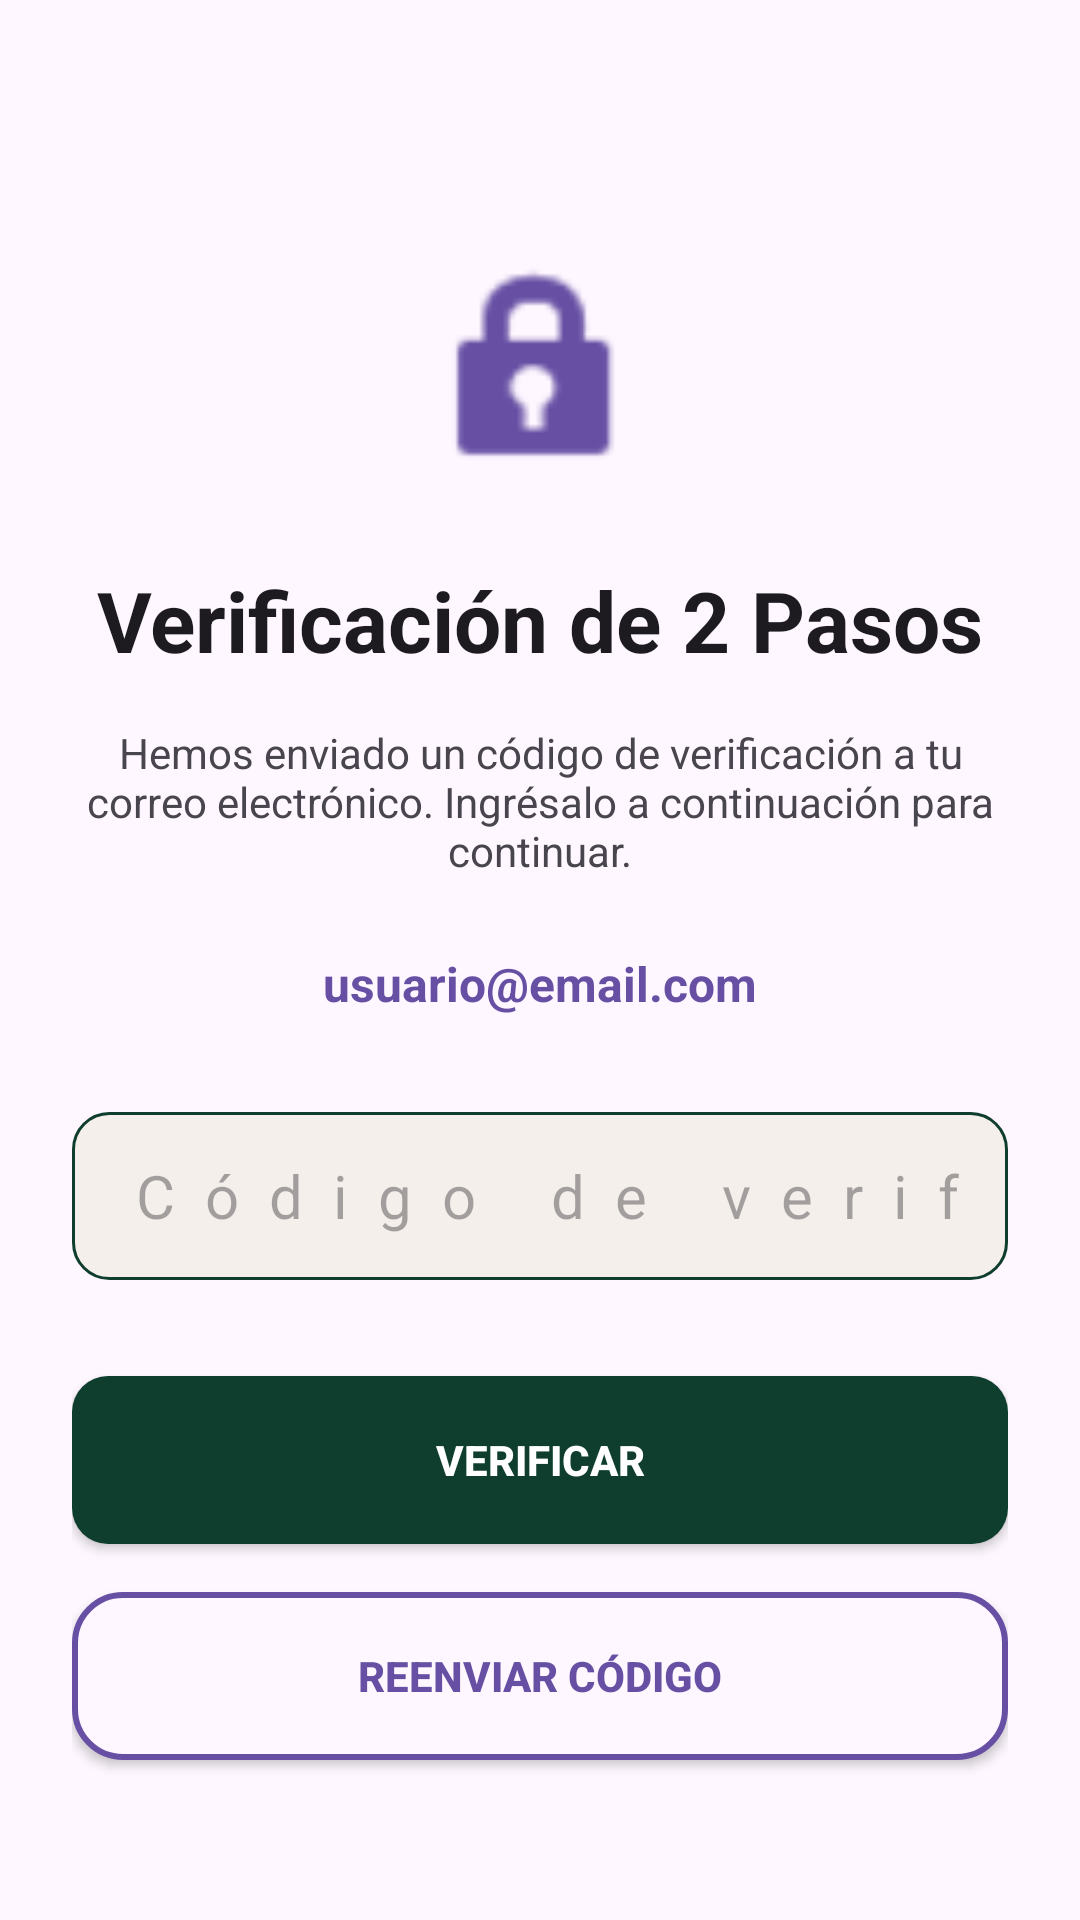

Icons on this 1080w x 1920h Android screen, each with its box as [x1,y1,x2,y2]:
lock idle: [456,273,613,456]
